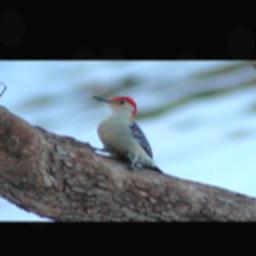Woodpecker: (89, 95, 166, 175)
